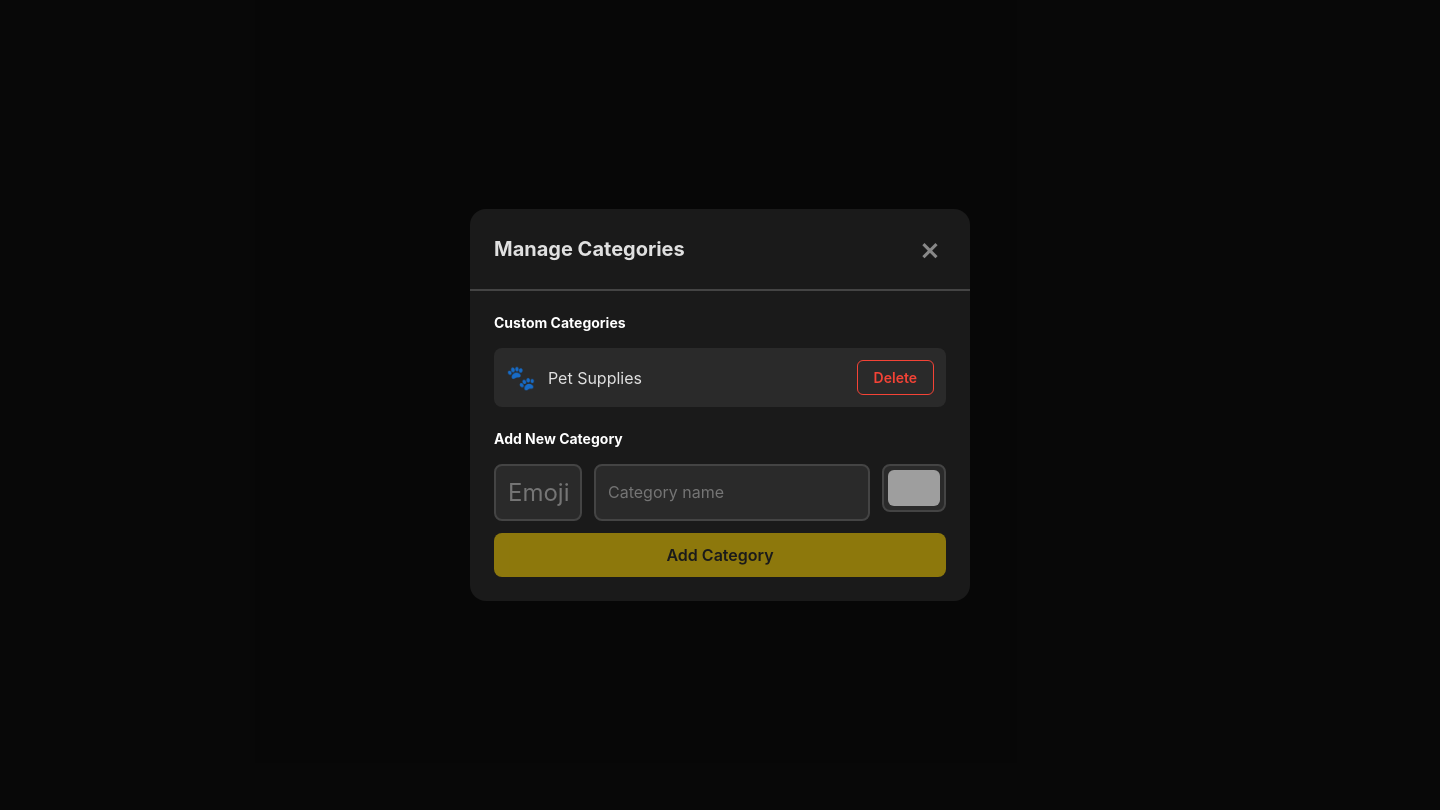
CategoryManager › should delete a custom category
Type "🐾" into the field with placeholder "Emoji" at x=538, y=492, box [494,464,582,521]
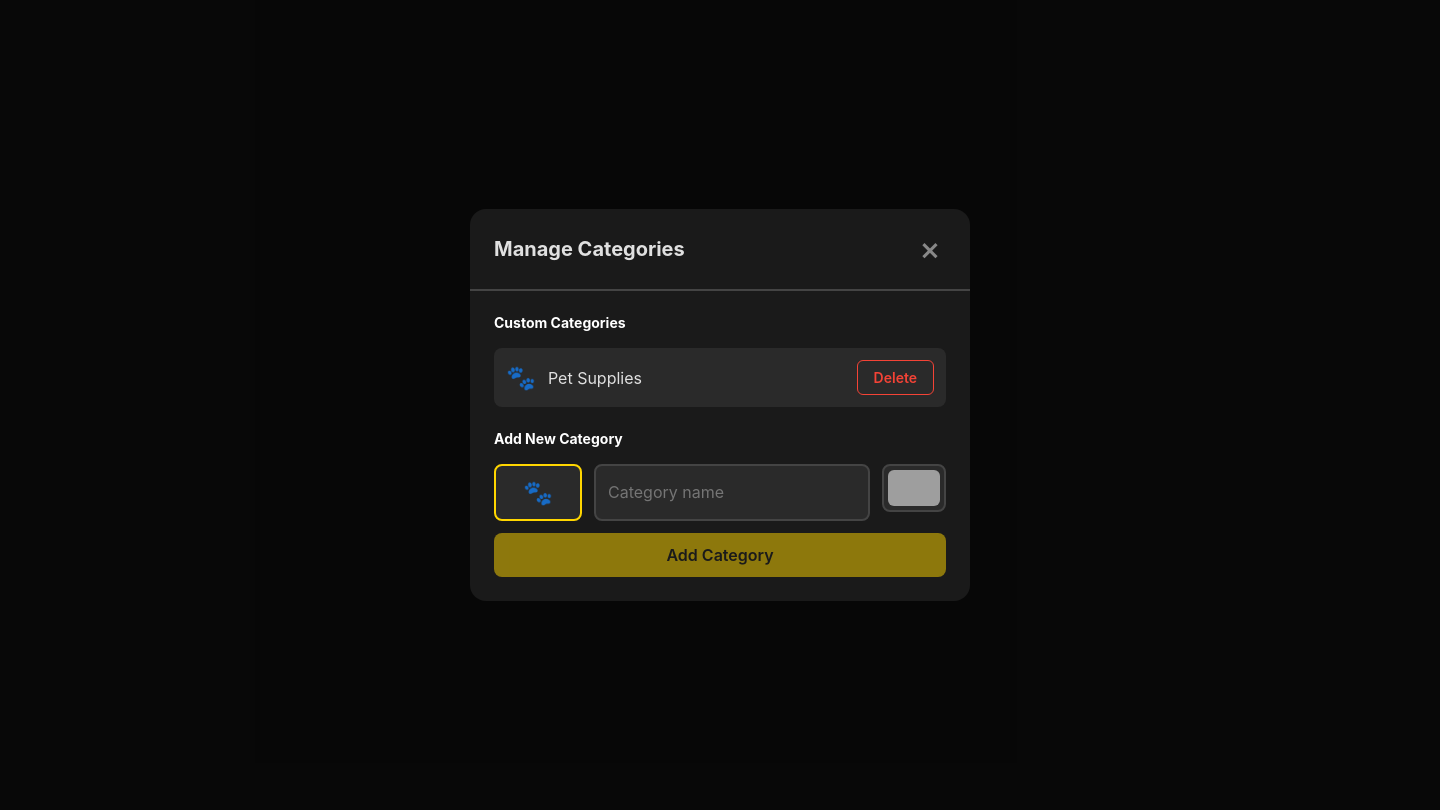
Type "Pet Supplies" into the field with placeholder "Category name" at x=732, y=492, box [594,464,870,521]
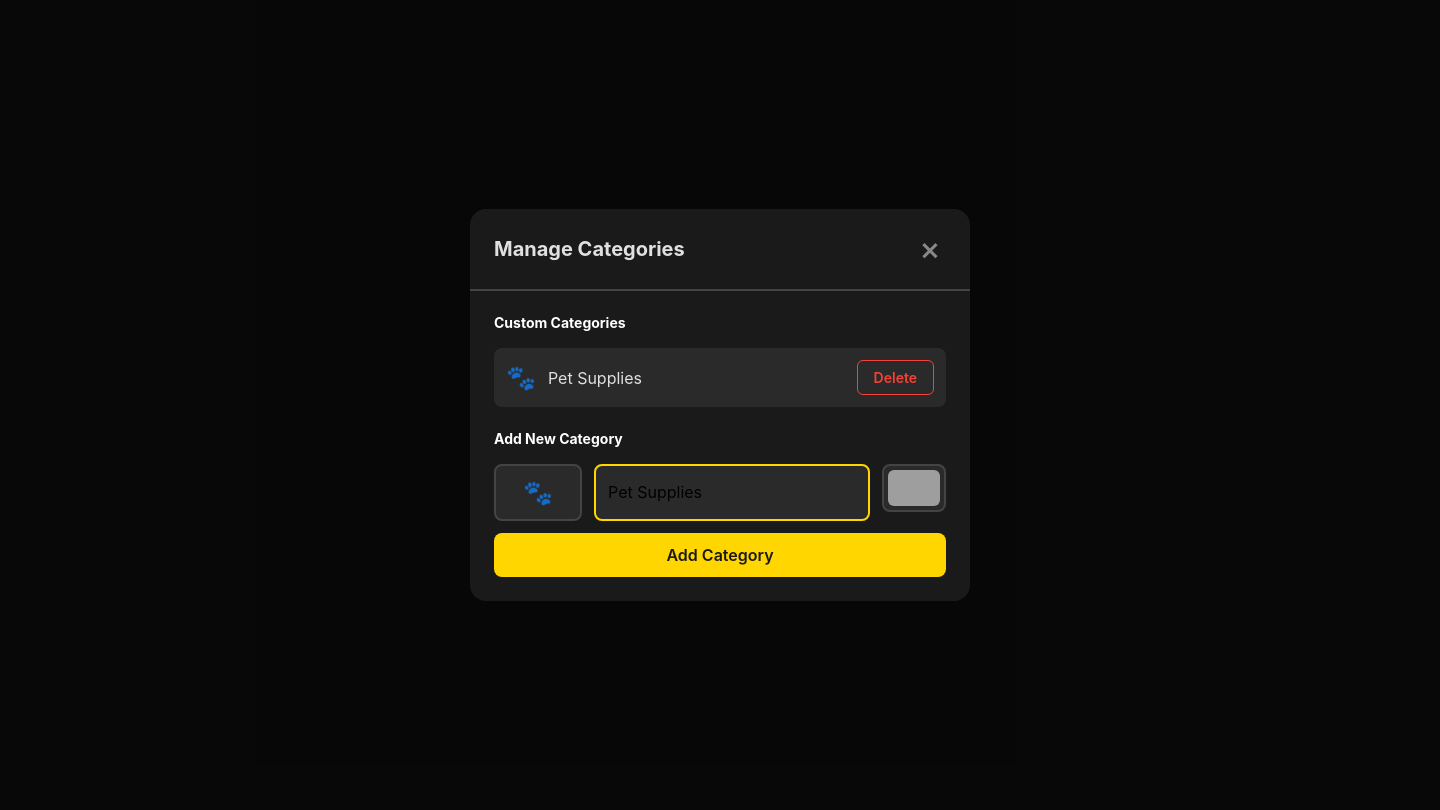
Click the button "Add Category" at x=720, y=555, box [494,533,946,577]
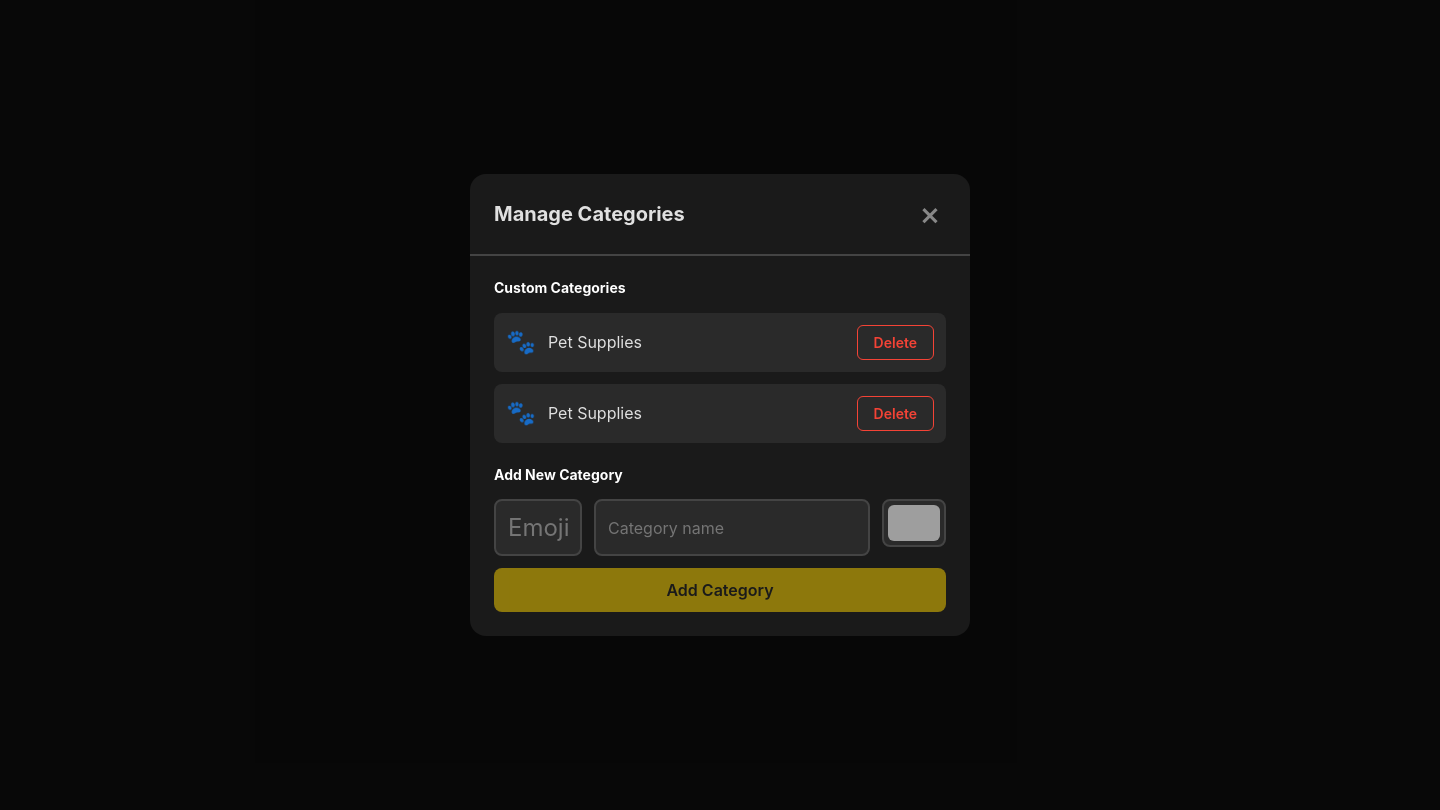
Expected: the 1st text "Pet Supplies" is shown, [548,330,642,354]
# Delete the category we just added
Click the 2nd button "Delete" at x=895, y=413, box [857,396,934,430]
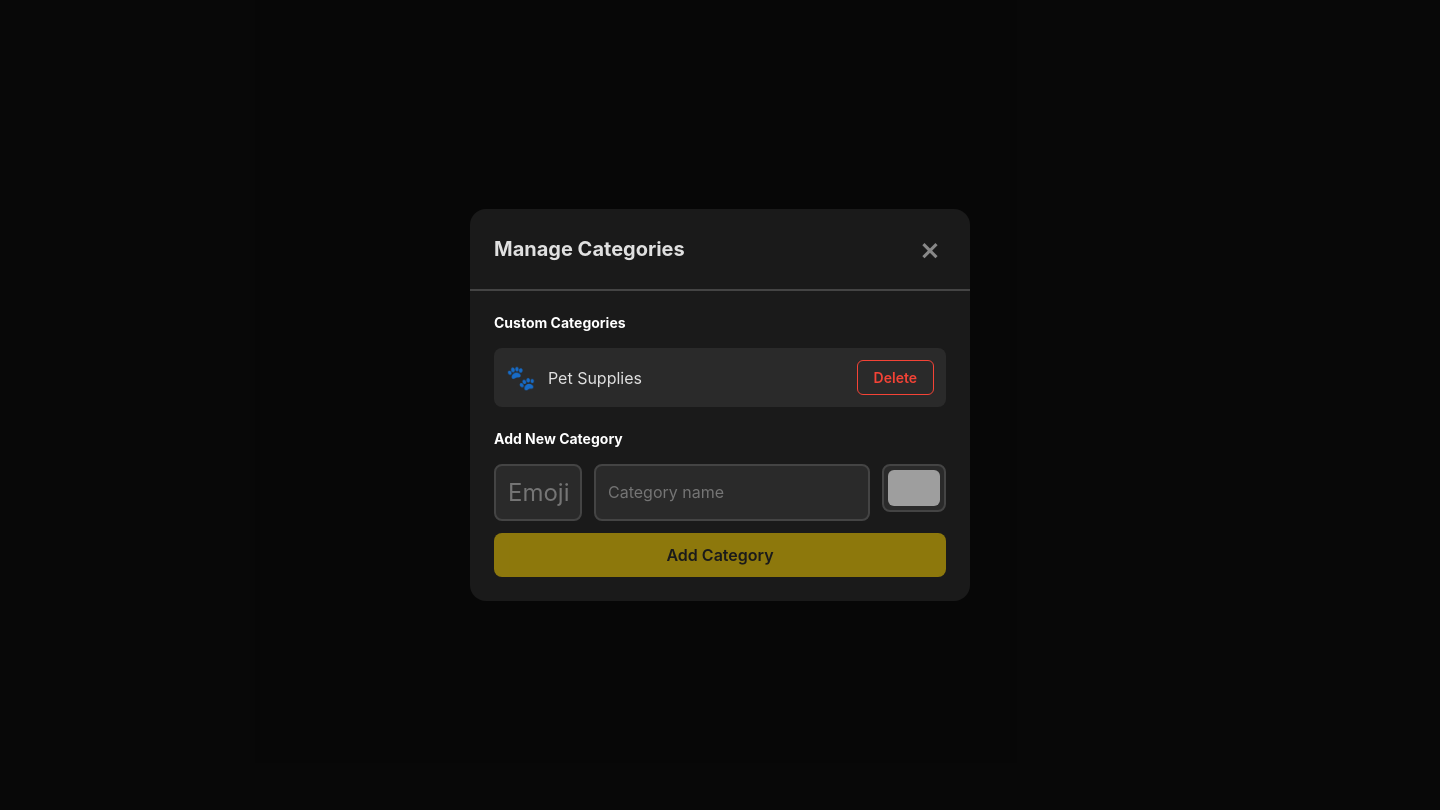
Now the number of buttons "Delete" is 1, box [857,360,934,395]
